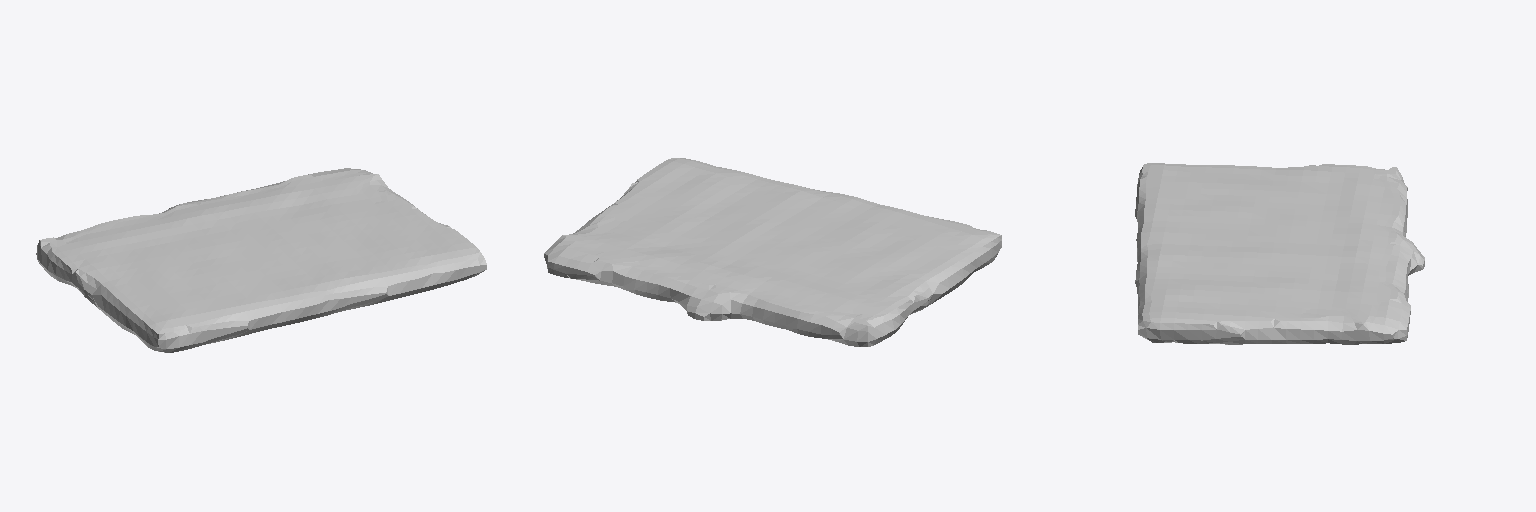
The model's file is Book_Scaled.obj.
The picture shows the model from 3 angles: view 1: azimuth 30°, elevation 25°; view 2: azimuth 150°, elevation 25°; view 3: azimuth 270°, elevation 25°; orthographic projection.
Parts seen in each view (by area): view 1: Retopo_Mesh; view 2: Retopo_Mesh; view 3: Retopo_Mesh.
Part boxes in pixels (x1,y1,x2,y2): Retopo_Mesh: (36,168,486,352); Retopo_Mesh: (544,158,1001,346); Retopo_Mesh: (1135,163,1424,344).
Bounding box in the file's own units: 0.2123 × 0.0181 × 0.1587.